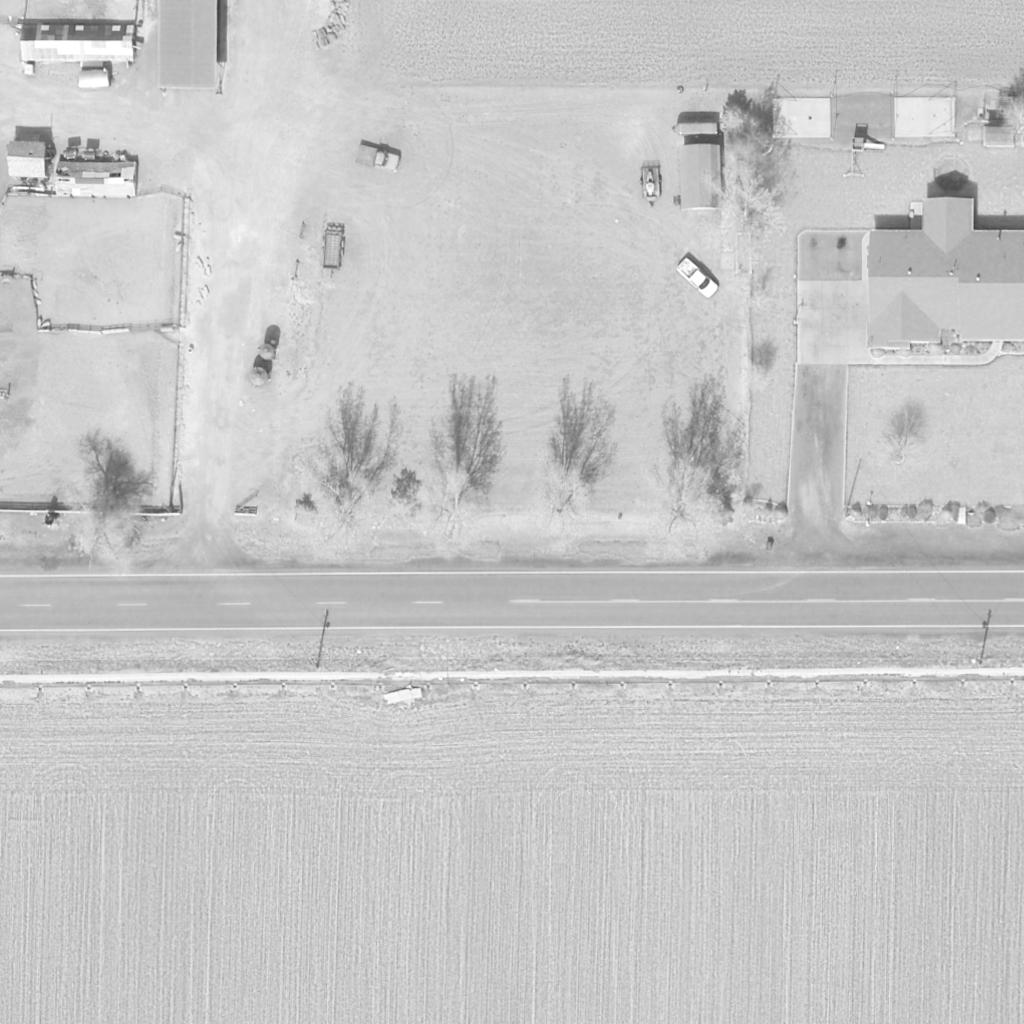vehicle: (674, 257, 722, 301), (355, 145, 401, 173)
